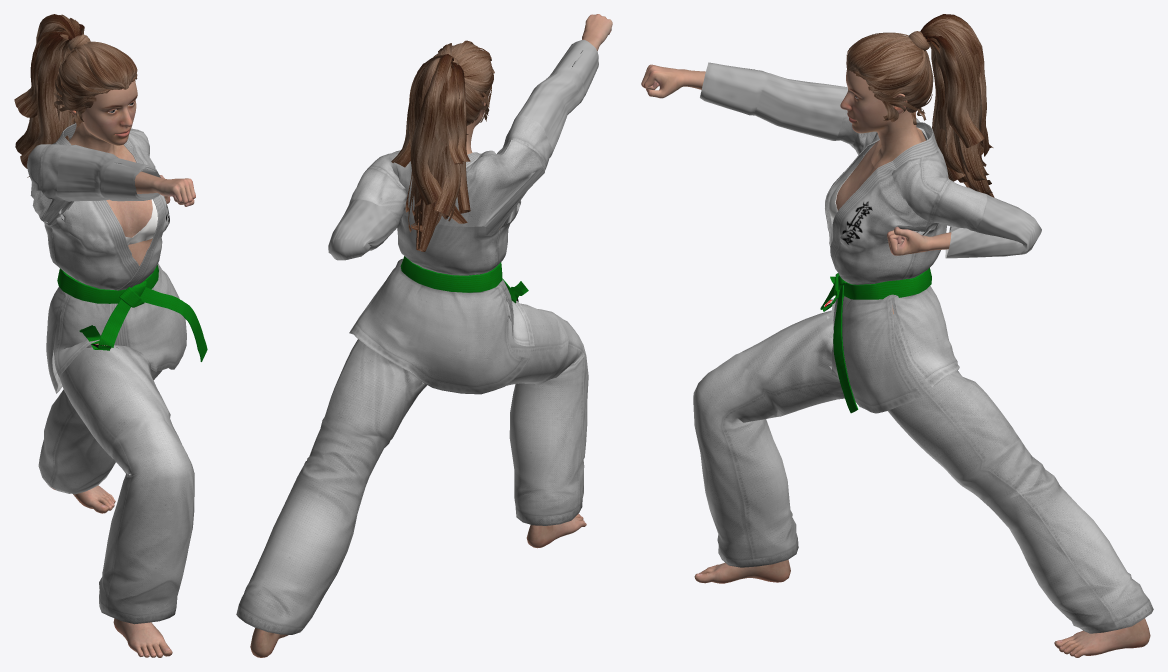
3 renders of one model, left to right at view 1: azimuth 30°, elevation 25°; view 2: azimuth 150°, elevation 25°; view 3: azimuth 270°, elevation 25°, orthographic. The views are drawn at different scales.
Parts seen in each view (by area): view 1: csajszi.001; view 2: csajszi.001; view 3: csajszi.001.
Boxes of the visible parts, x1=… form: csajszi.001: x1=14, y1=14, x2=207, y2=657; csajszi.001: x1=236, y1=14, x2=612, y2=657; csajszi.001: x1=641, y1=14, x2=1153, y2=657.
Size of what is drawn, in the model's own units: 0.5378 by 1.55 by 1.23.
Materials: 15 (15 with a texture image).
